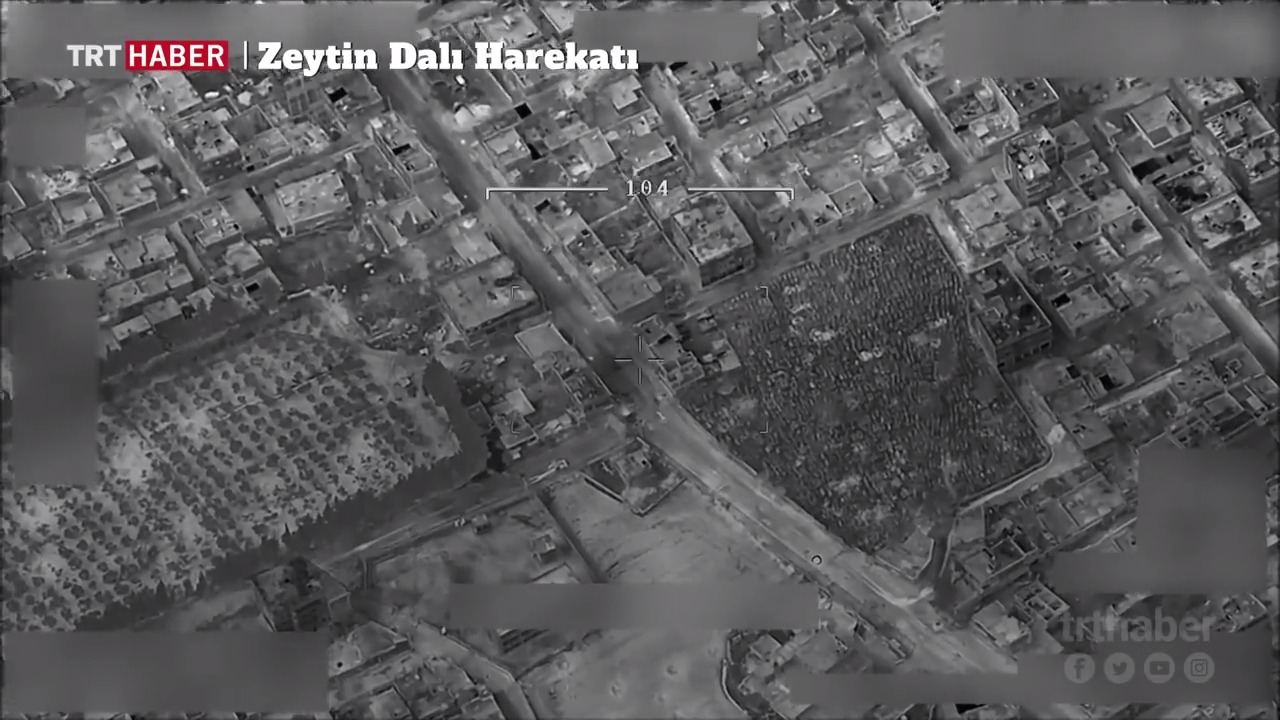bina: (160, 105, 243, 186), (274, 166, 350, 235)
